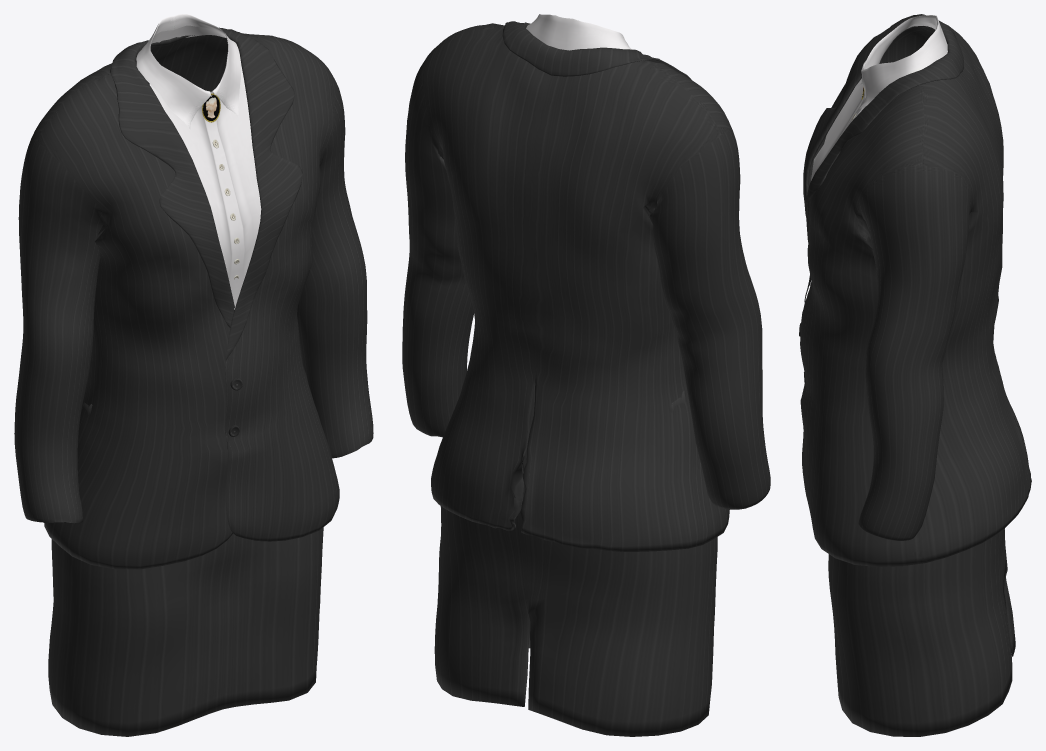
The model's file is full_skirt_suit.gltf.
3 views of the same model, side by side, from view 1: azimuth 30°, elevation 25°; view 2: azimuth 150°, elevation 25°; view 3: azimuth 270°, elevation 25° (orthographic). The views are drawn at different scales.
Parts seen in each view (by area): view 1: full_skirt_suit; view 2: full_skirt_suit; view 3: full_skirt_suit.
Boxes of the visible parts, left/top/right/bottom form: full_skirt_suit: left=14, top=14, right=373, bottom=736; full_skirt_suit: left=402, top=14, right=770, bottom=736; full_skirt_suit: left=799, top=14, right=1031, bottom=736.
Bounding box in the file's own units: 0.5159 × 0.9584 × 0.307.
Materials: 1 (1 with a texture image).
